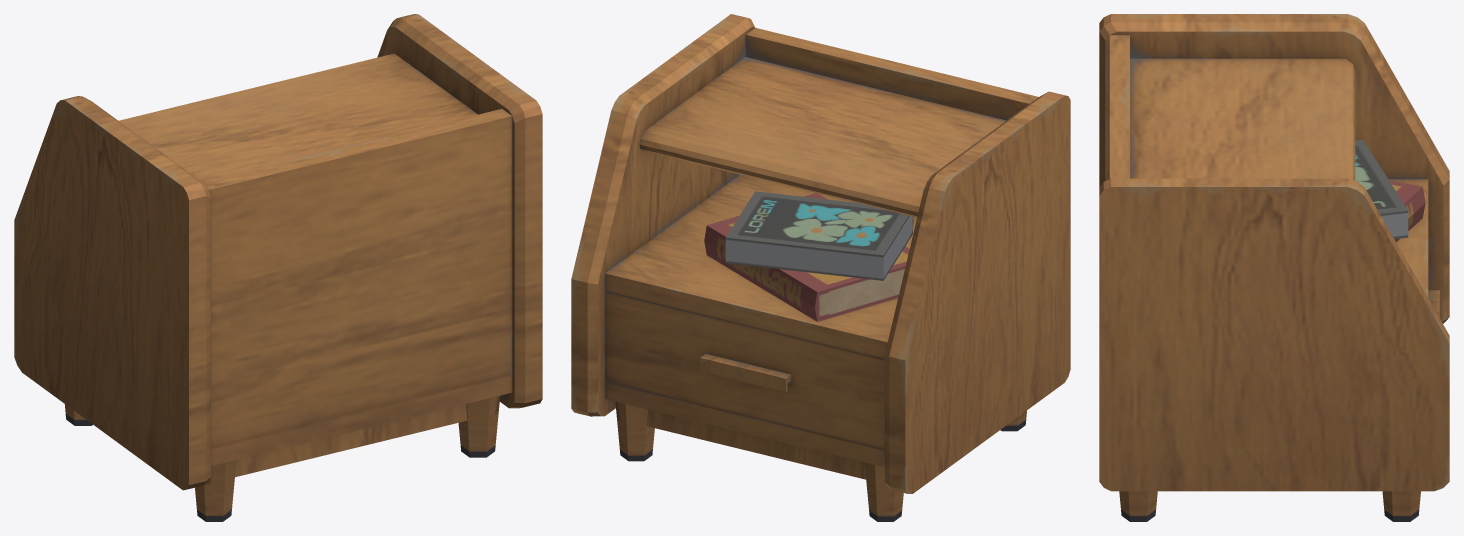
File: P_Cabinet_018_S1_M02.obj
3 views of the same model, side by side, from view 1: azimuth 30°, elevation 25°; view 2: azimuth 150°, elevation 25°; view 3: azimuth 270°, elevation 25° (orthographic). The views are drawn at different scales.
Bounding box in the file's own units: 0.8849 × 0.8367 × 0.7576.
Materials: 2 (2 with a texture image).
